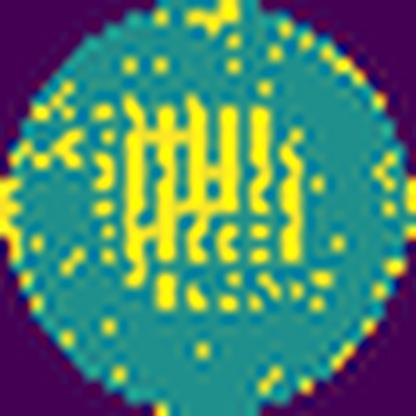Center: (101, 92, 308, 310)
